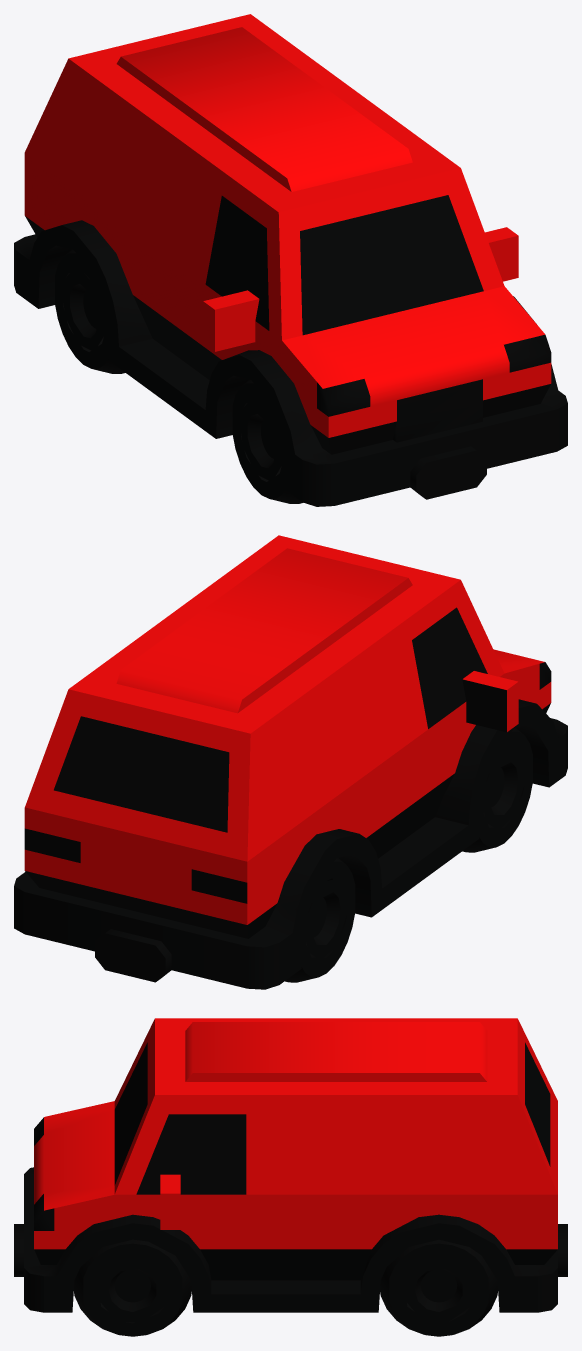
File: van.glb
The picture shows the model from 3 angles, top to bottom: view 1: azimuth 30°, elevation 25°; view 2: azimuth 150°, elevation 25°; view 3: azimuth 270°, elevation 25°; orthographic projection. The views are drawn at different scales.
Visible parts, largest first — view 1: body, wheel-back-right, wheel-front-right; view 2: body, wheel-back-right, wheel-front-right; view 3: body, wheel-back-left, wheel-front-left.
Boxes of the visible parts, bbox=[...] form: body: bbox=[14, 14, 567, 506]; wheel-back-right: bbox=[55, 249, 125, 373]; wheel-front-right: bbox=[232, 379, 303, 503]; body: bbox=[14, 535, 567, 989]; wheel-back-right: bbox=[285, 858, 355, 982]; wheel-front-right: bbox=[462, 728, 532, 852]; body: bbox=[14, 1018, 567, 1312]; wheel-back-left: bbox=[380, 1239, 497, 1336]; wheel-front-left: bbox=[74, 1239, 191, 1336].
Size of the model in its own units: 1.5 by 1.35 by 2.75.
1 material, 1 textured.
